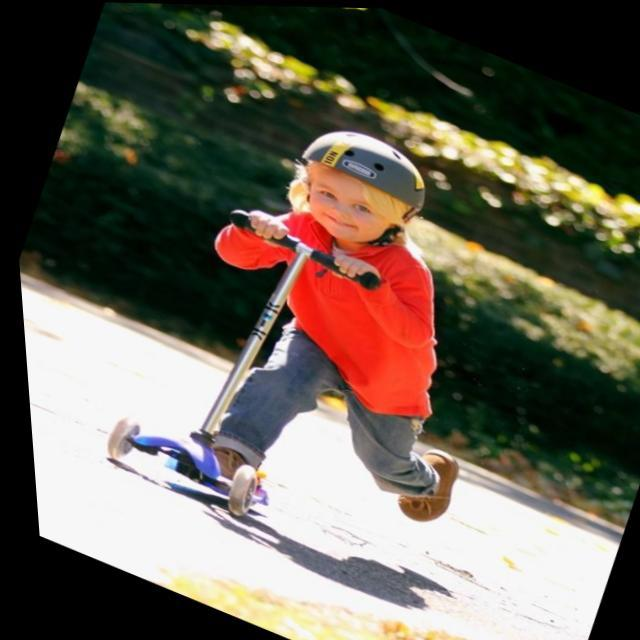Helmet: (279, 116, 444, 265)
